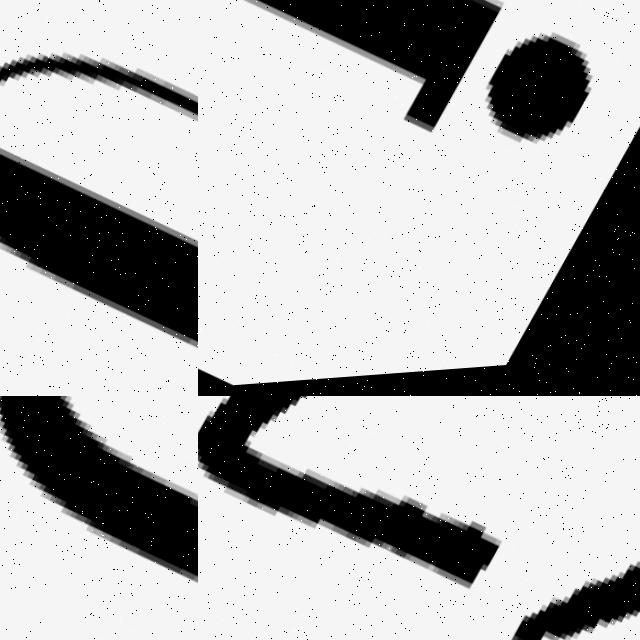0: (0, 396, 198, 640)
C: (0, 151, 198, 345)
I: (198, 396, 640, 640)
J: (198, 0, 636, 287)
